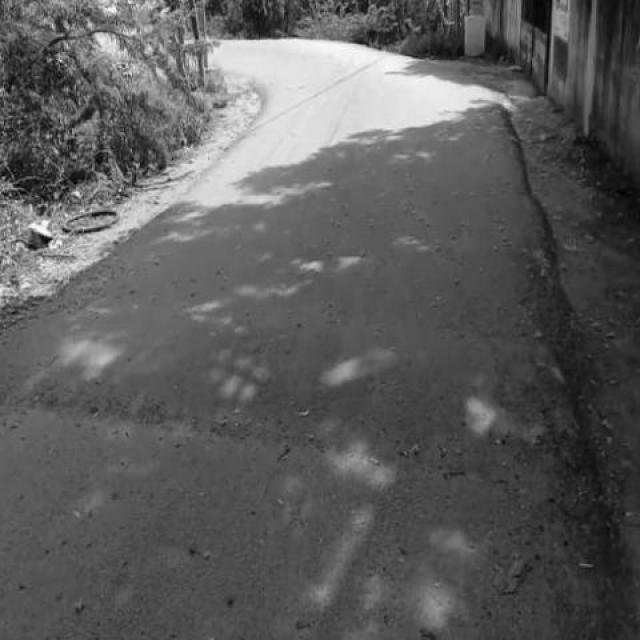Unmarked Bump: (1, 298, 582, 446)
